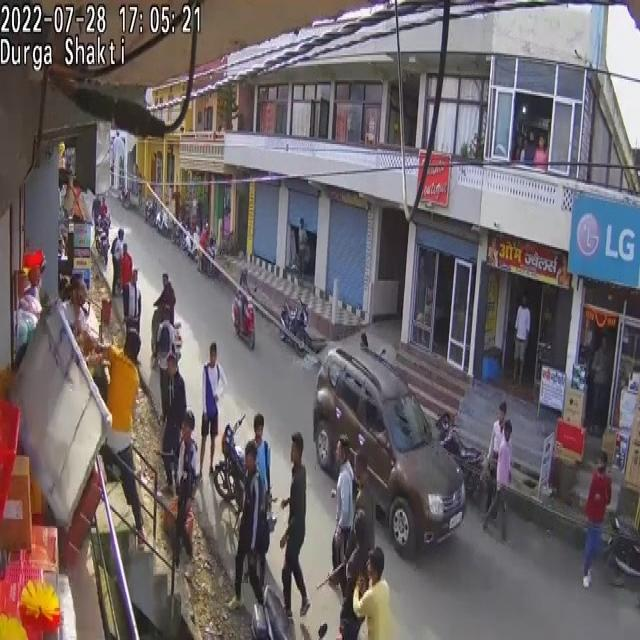fight: (11, 189, 227, 575), (352, 547, 396, 640), (15, 252, 43, 359), (59, 276, 92, 351)
non-fight: (102, 334, 143, 544), (341, 446, 377, 632), (227, 441, 263, 616), (278, 434, 310, 620), (172, 414, 200, 569), (581, 451, 611, 588), (328, 435, 354, 589), (160, 356, 187, 493), (200, 342, 224, 474), (482, 399, 508, 517), (252, 413, 272, 508), (152, 274, 176, 351), (123, 270, 142, 360), (513, 293, 531, 384), (111, 226, 124, 297)
